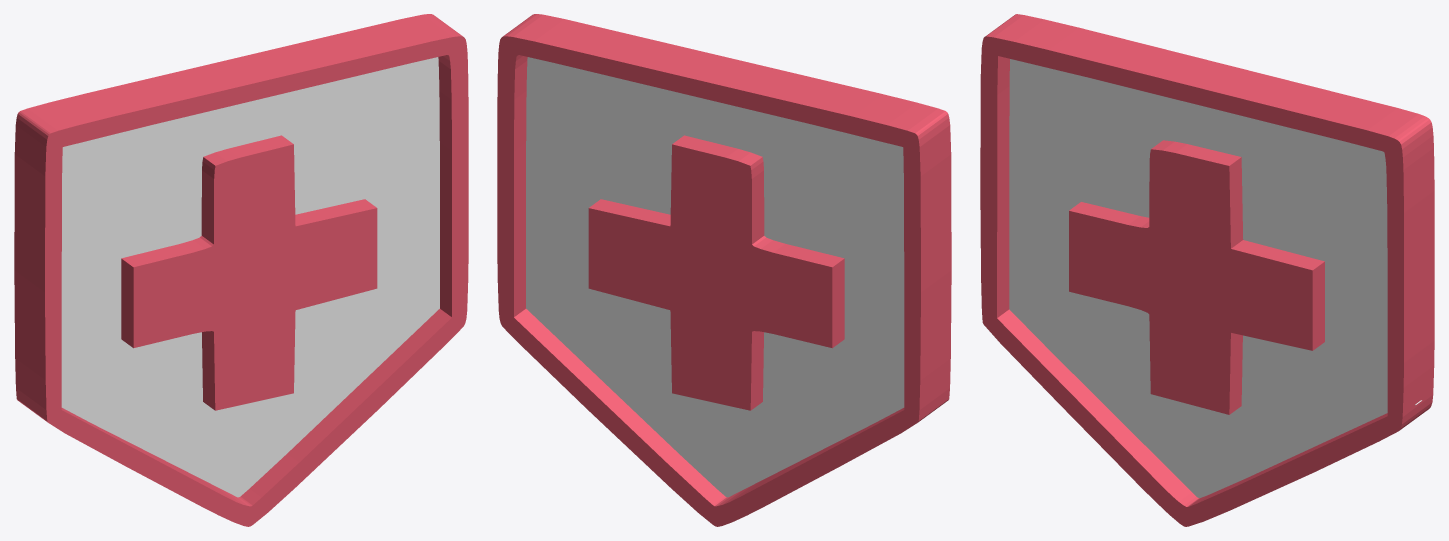
The model's file is medicine-marker-org.fbx.
3 views of the same model, side by side, from view 1: azimuth 30°, elevation 25°; view 2: azimuth 150°, elevation 25°; view 3: azimuth 330°, elevation 25° (orthographic).
Visible parts, largest first — view 1: obj_0.013; view 2: obj_0.013; view 3: obj_0.013.
Boxes of the visible parts, <box> form: obj_0.013: <box>14,14,468,526</box>; obj_0.013: <box>497,14,951,526</box>; obj_0.013: <box>980,14,1434,526</box>.
Size of the model in its own units: 4000 by 4000 by 500.
